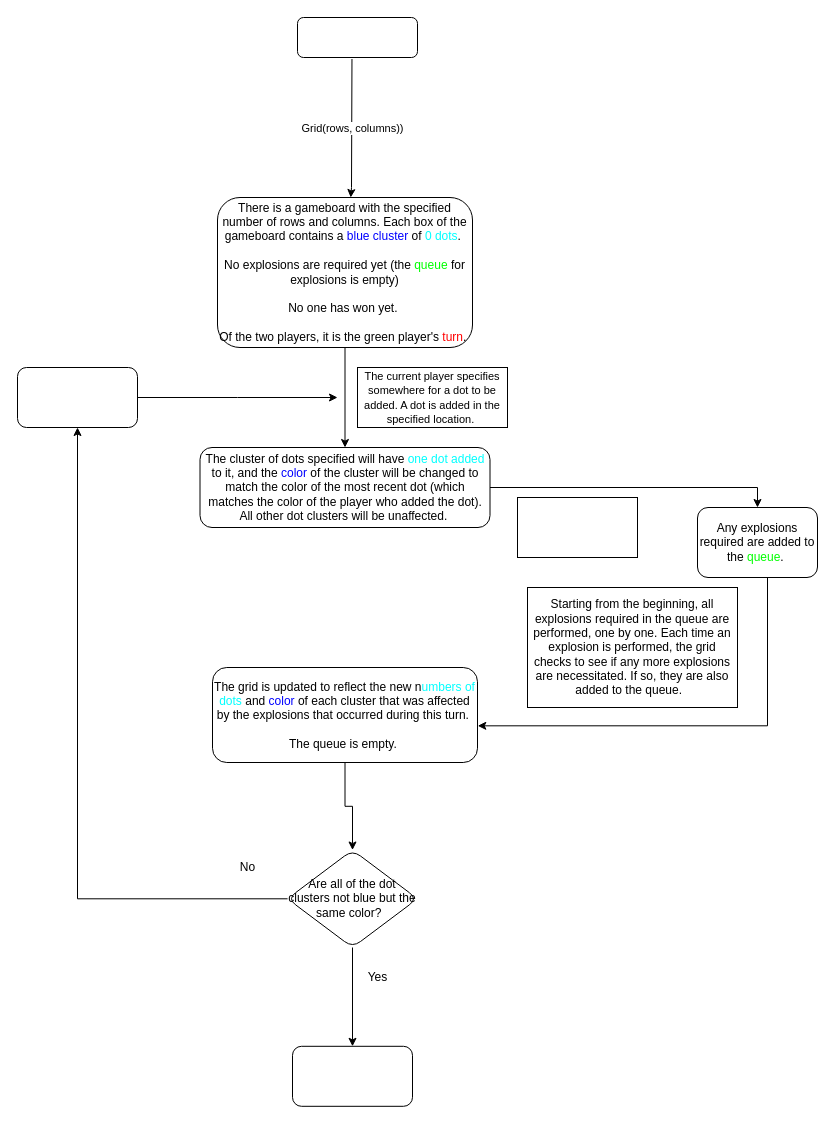
The diagram is 835 pixels wide and 1124 high, and some of its shapes have lost their labels. Here are the shapes that lost their labels. From the top down, the centre of each, then its label:
point (357, 37): (nothing)
point (77, 397): It is now the other player's turn
point (577, 527): The grid checks to see if any explosions are needed.
point (352, 1075): The game has been won by the player who most recently had a turn.
